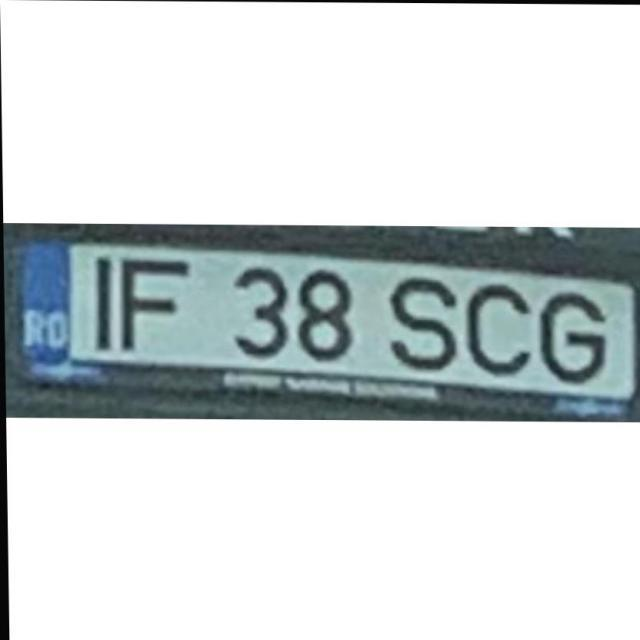license-plates: (69, 244, 637, 402)
